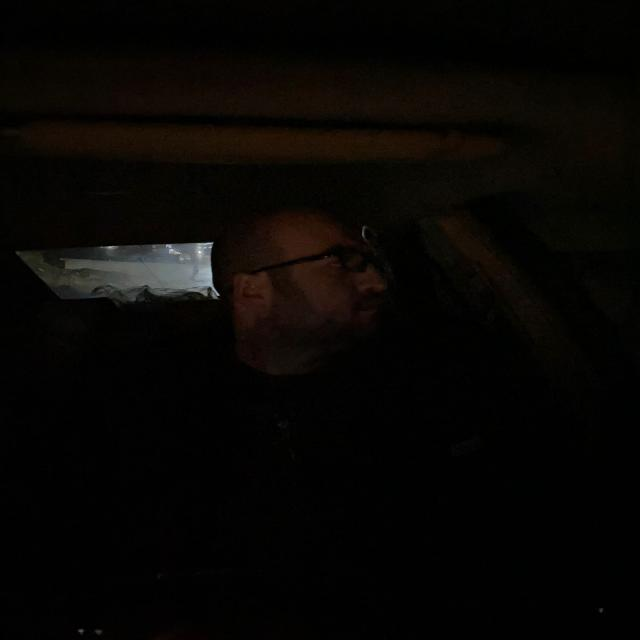LeftRight: (215, 217, 408, 348)
